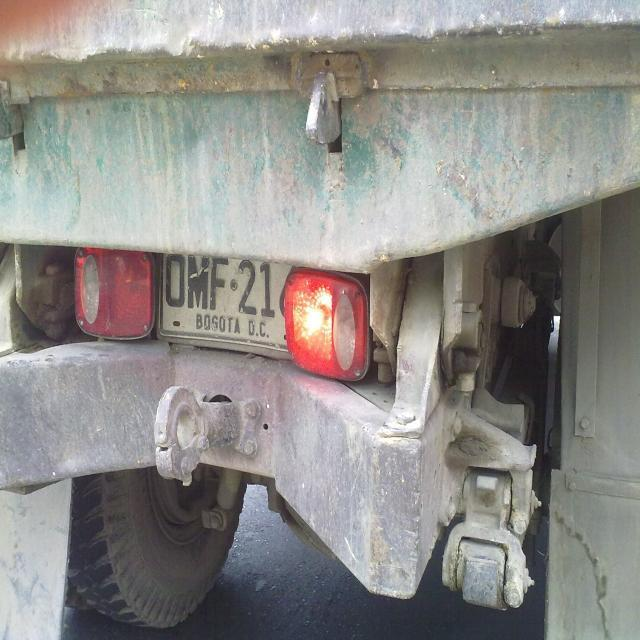placa: (154, 245, 309, 358)
